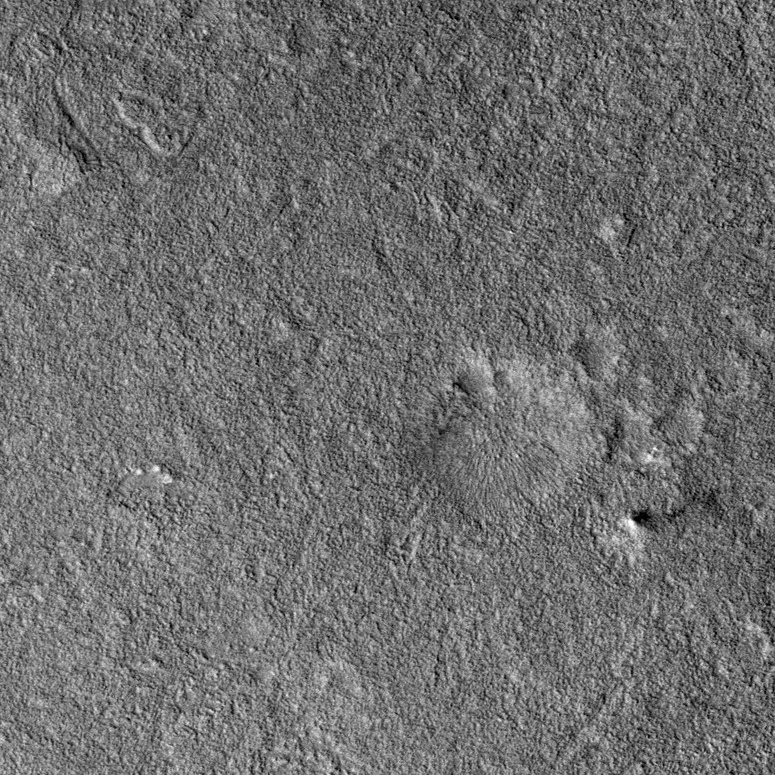dust_devil: (614, 504, 697, 541)
